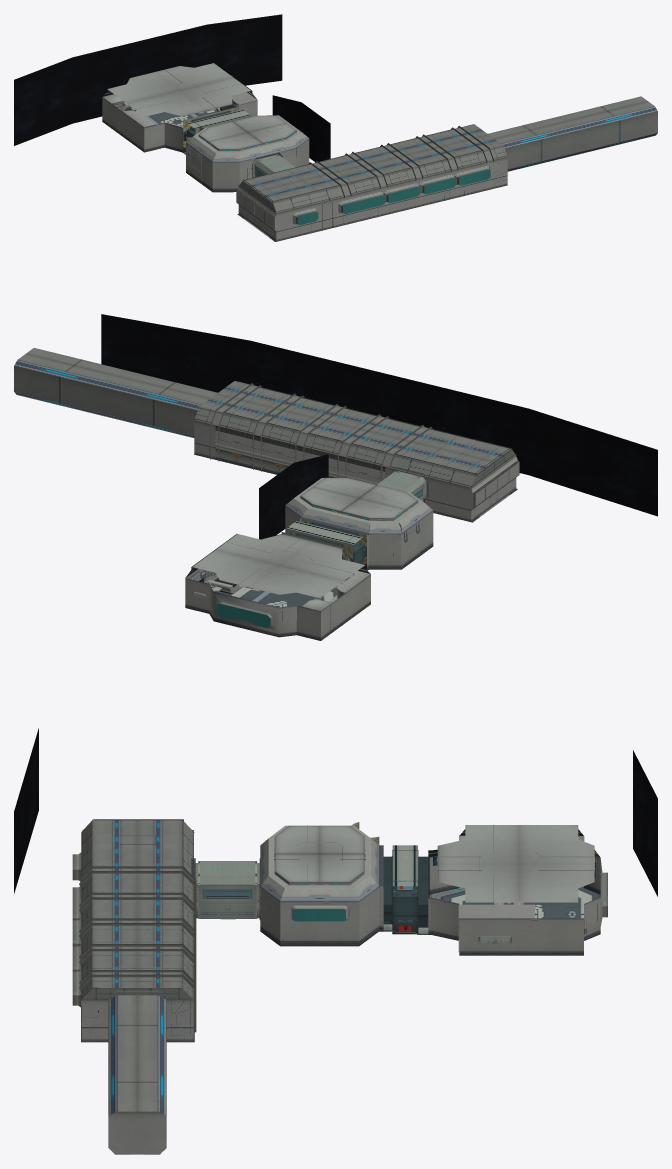
The model's file is ts_woshicj001.FBX.
3 renders of one model, top to bottom at view 1: azimuth 30°, elevation 25°; view 2: azimuth 150°, elevation 25°; view 3: azimuth 270°, elevation 25°, orthographic. The views are drawn at different scales.
Parts seen in each view (by area): view 1: ts_wushi002, ts_wsxk001, ts_wushi005, ts_wushi007, ts_wushi013, ts_wushi006, ts_wushi009, ts_wushi008; view 2: ts_wsxk001, ts_wushi002, ts_wushi005, ts_wushi006, ts_wushi007, ts_wushi009, ts_wushi008, ts_wushi013; view 3: ts_wushi005, ts_wushi002, ts_wushi006, ts_wushi007, ts_wsxk001, ts_wushi009, ts_wszuoyi001, ts_wushi003, ts_wushi008, ts_wushi013.
Part boxes in pixels (x1,y1,x2,y2): ts_wushi002: (236,96,657,241); ts_wsxk001: (14,14,330,161); ts_wushi005: (102,63,309,192); ts_wushi007: (292,126,493,224); ts_wushi013: (297,170,490,225); ts_wushi006: (183,106,295,177); ts_wushi009: (127,109,505,241); ts_wushi008: (103,63,256,134); ts_wsxk001: (101,314,657,539); ts_wushi002: (14,348,519,521); ts_wushi005: (185,477,433,640); ts_wushi006: (281,471,424,569); ts_wushi007: (210,383,432,481); ts_wushi009: (194,454,517,607); ts_wushi008: (185,534,370,631); ts_wushi013: (216,604,270,627); ts_wushi005: (260,824,602,955); ts_wushi002: (81,819,194,1154); ts_wushi006: (198,845,429,934); ts_wushi007: (72,852,196,1037); ts_wsxk001: (14,728,657,896); ts_wushi009: (81,886,600,1042); ts_wszuoyi001: (458,904,534,951); ts_wushi003: (191,858,348,921); ts_wushi008: (428,829,607,943); ts_wushi013: (293,909,345,921).
Size of the model in its own units: 66.12 by 8.74 by 49.96.
